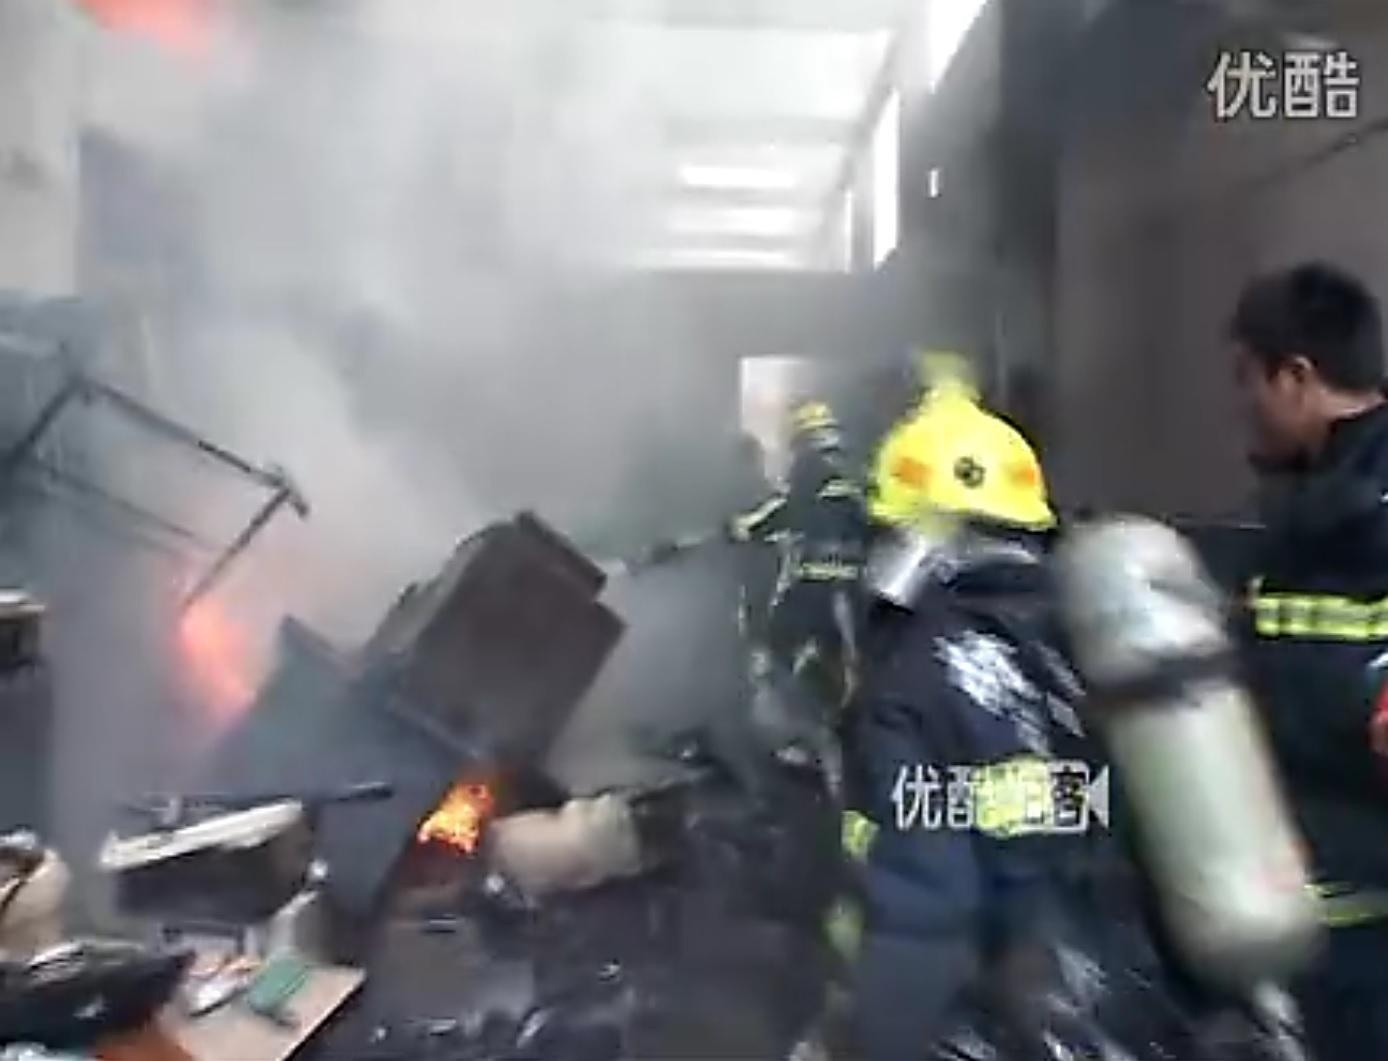fire: (417, 773, 492, 850)
